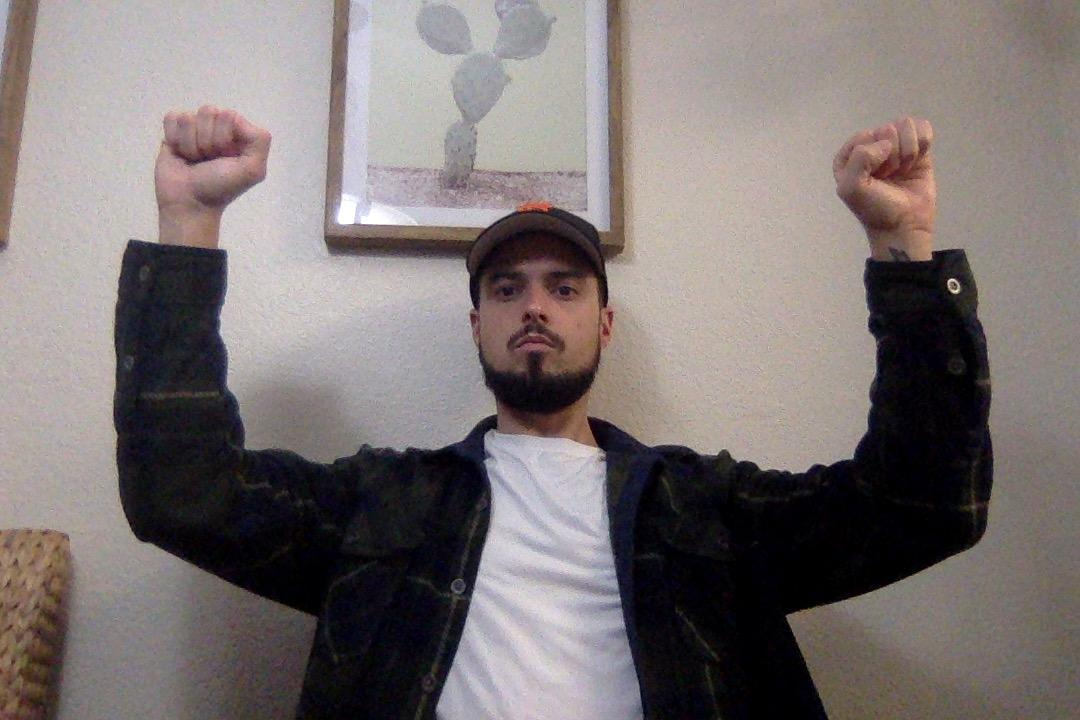Raised-Fist: (825, 110, 965, 253), (143, 102, 279, 245)
